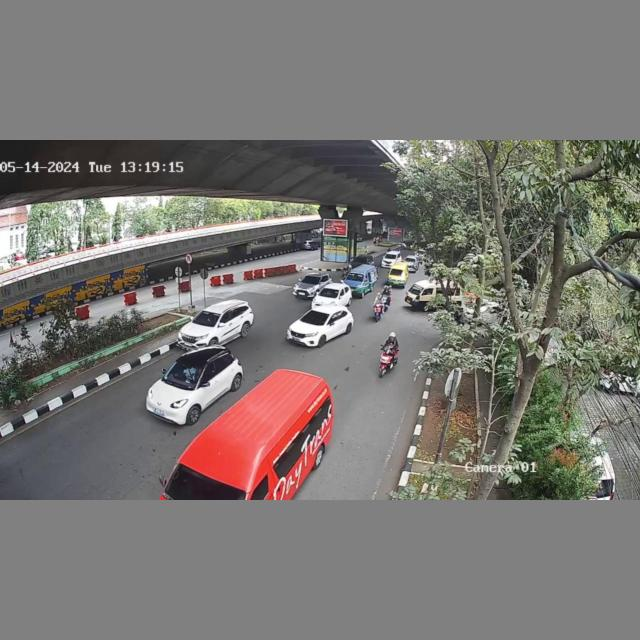windshield: (162, 361, 204, 387), (299, 308, 330, 328), (192, 309, 220, 326)
